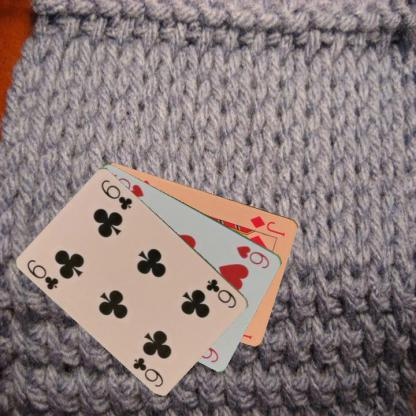6c: (203, 276, 238, 310), (25, 257, 60, 291)
6h: (234, 242, 271, 270)
Jd: (247, 213, 287, 238)
